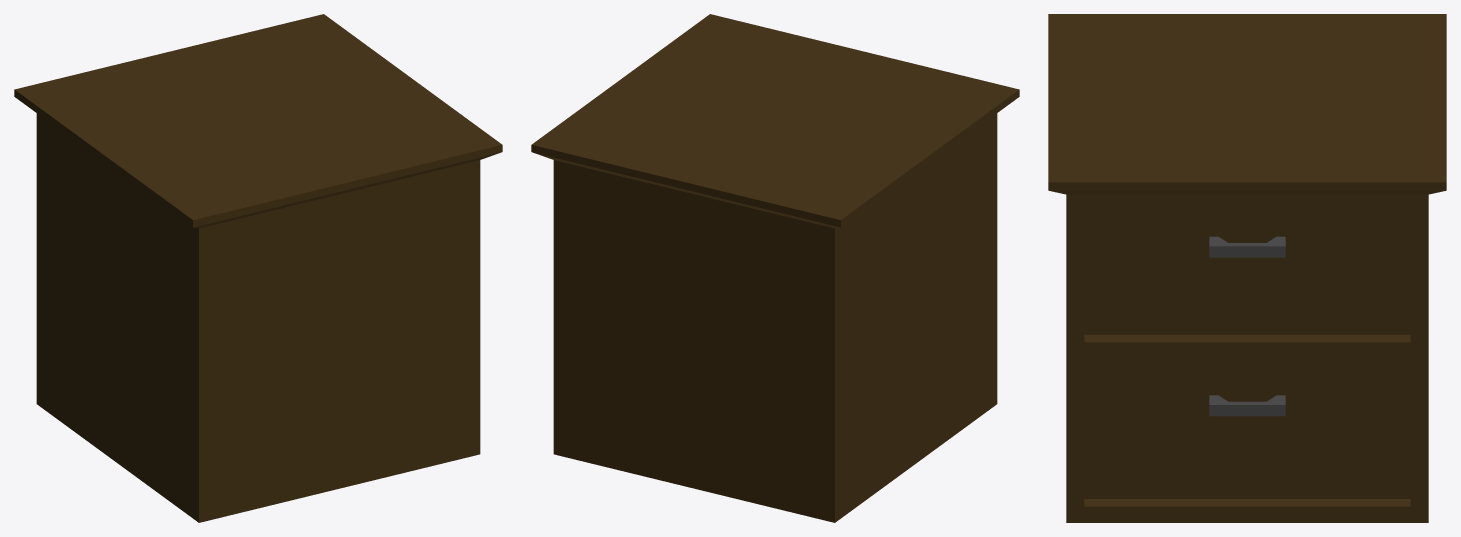
Rendered from dresser.fbx.
3 renders of one model, left to right at view 1: azimuth 30°, elevation 25°; view 2: azimuth 150°, elevation 25°; view 3: azimuth 270°, elevation 25°, orthographic. The views are drawn at different scales.
Visible parts, largest first — view 1: Cube; view 2: Cube; view 3: Cube, Cube.002, Cube.001.
Boxes of the visible parts, x1,y1,x2,y2 form: Cube: [14, 14, 502, 522]; Cube: [531, 14, 1019, 522]; Cube: [1048, 14, 1446, 522]; Cube.002: [1209, 395, 1285, 416]; Cube.001: [1209, 236, 1285, 257].
Size of the model in its own units: 220 by 212 by 220.
